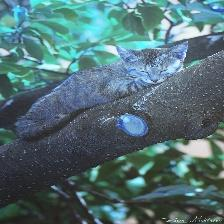kedo: (14, 41, 189, 142)
